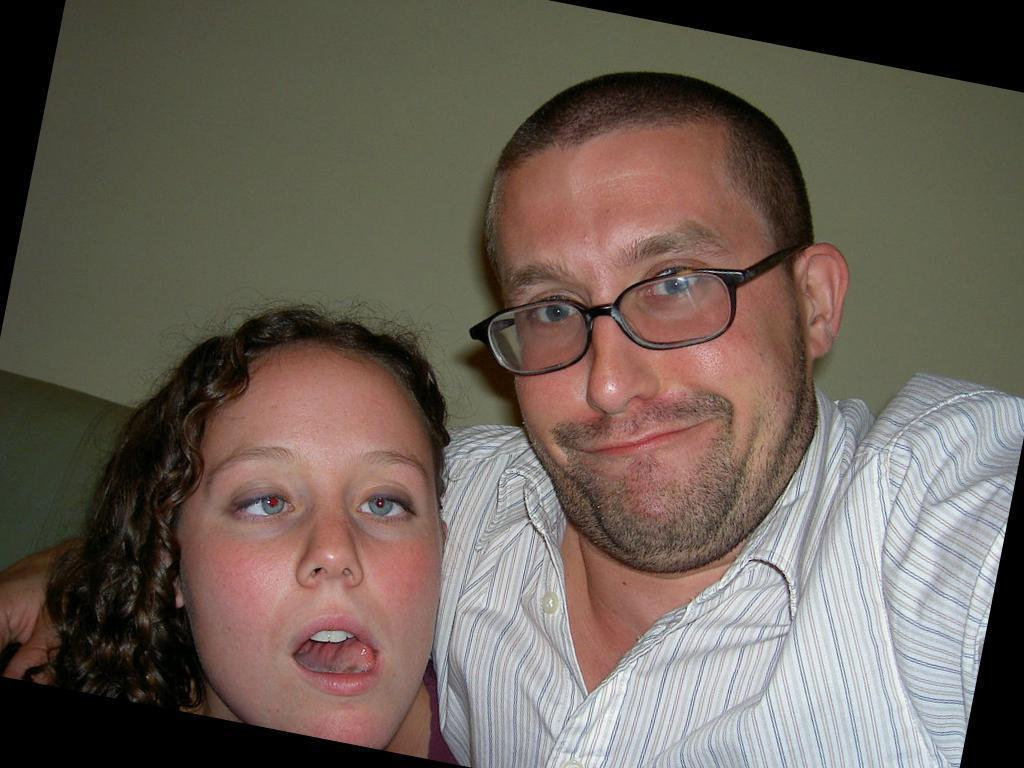Drunk: (497, 169, 770, 525), (211, 364, 435, 730)
